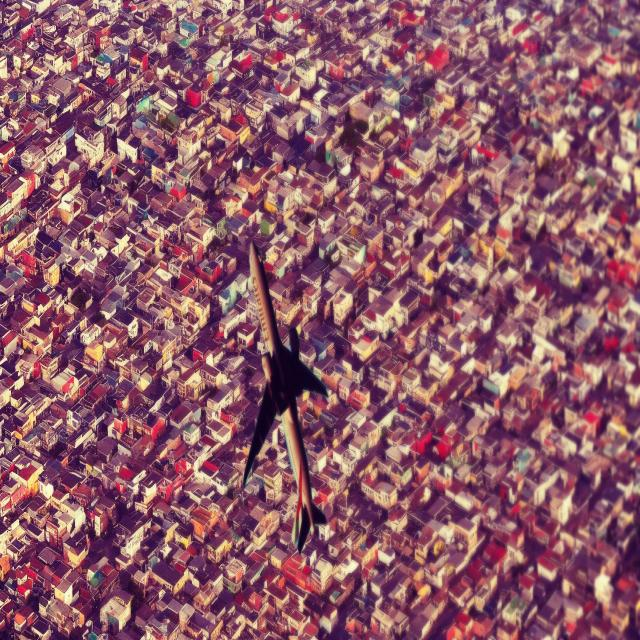airplane: (241, 240, 330, 554)
